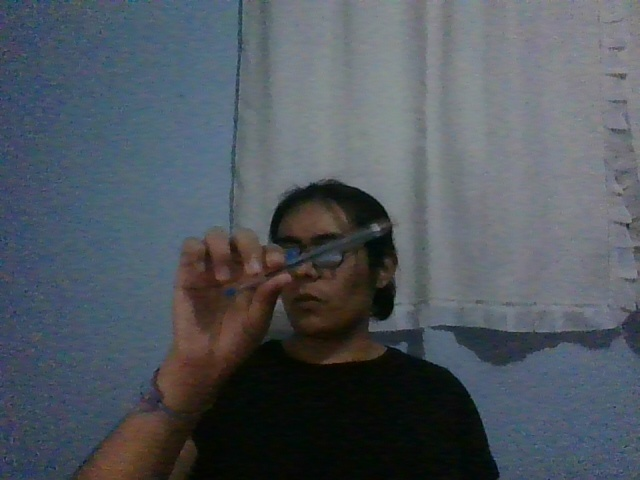pluma: (223, 219, 398, 298)
